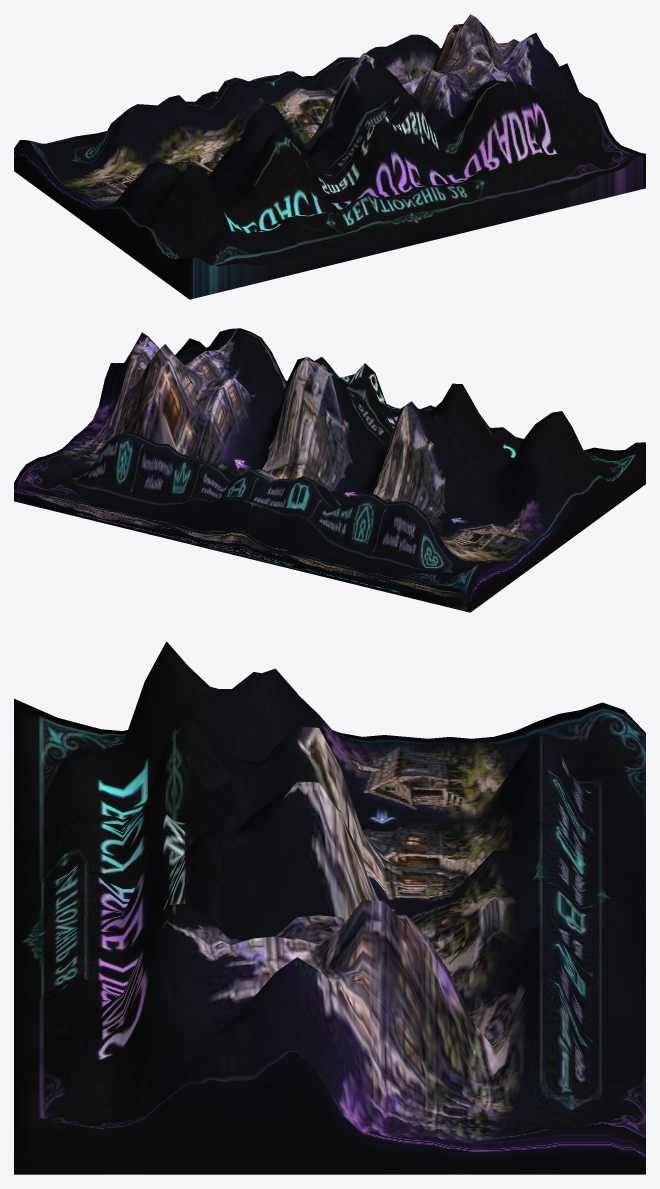
The model's file is RELATIONSHIP_28_Legacy_House.glb.
The picture shows the model from 3 angles, top to bottom: view 1: azimuth 30°, elevation 25°; view 2: azimuth 150°, elevation 25°; view 3: azimuth 270°, elevation 25°; orthographic projection. The views are drawn at different scales.
Parts seen in each view (by area): view 1: RELATIONSHIP_28_Legacy_House; view 2: RELATIONSHIP_28_Legacy_House; view 3: RELATIONSHIP_28_Legacy_House.
Boxes of the visible parts, left/top/right/bottom form: RELATIONSHIP_28_Legacy_House: left=14, top=14, right=645, bottom=299; RELATIONSHIP_28_Legacy_House: left=14, top=328, right=645, bottom=612; RELATIONSHIP_28_Legacy_House: left=14, top=641, right=645, bottom=1174.
Size of the model in its own units: 2 by 0.51 by 1.33.
Materials: 1 (1 with a texture image).
